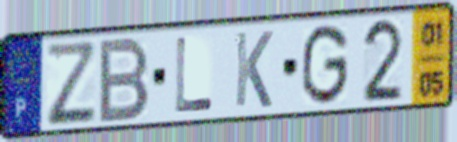2: (359, 15, 405, 107)
B: (96, 34, 153, 126)
G: (299, 21, 352, 108)
K: (232, 29, 275, 111)
L: (173, 34, 216, 116)
Z: (43, 39, 99, 129)
